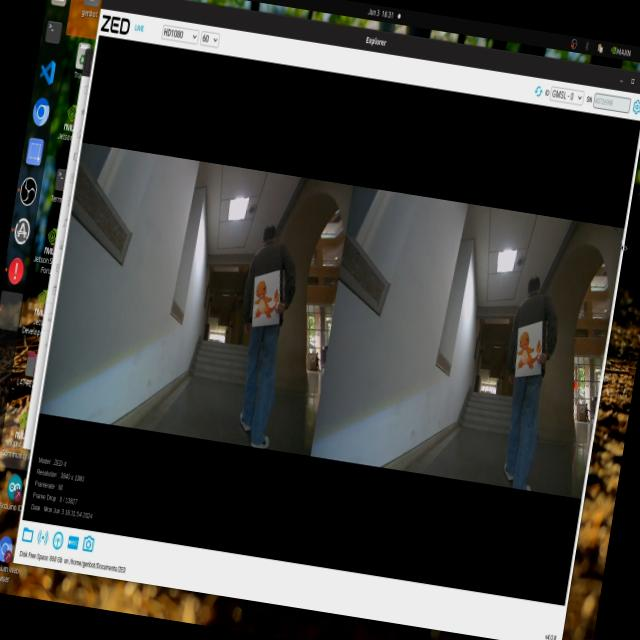red: (248, 267, 288, 329), (512, 322, 546, 372)
